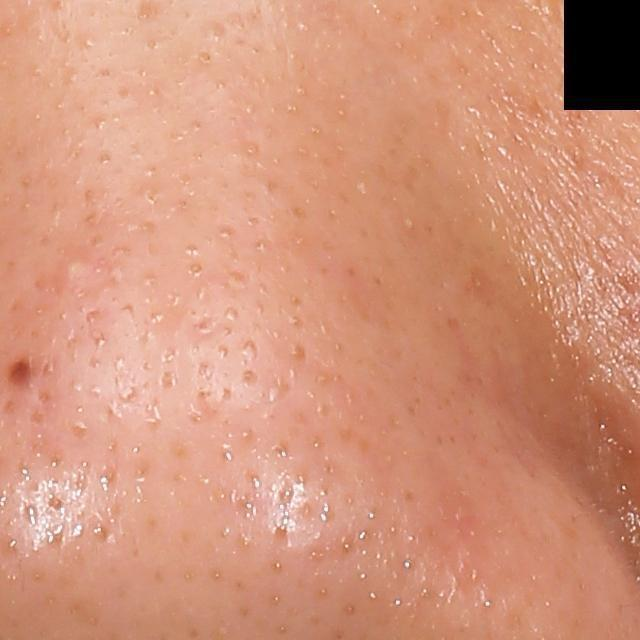comedo: (194, 48, 215, 66)
nevus: (3, 353, 41, 392)
